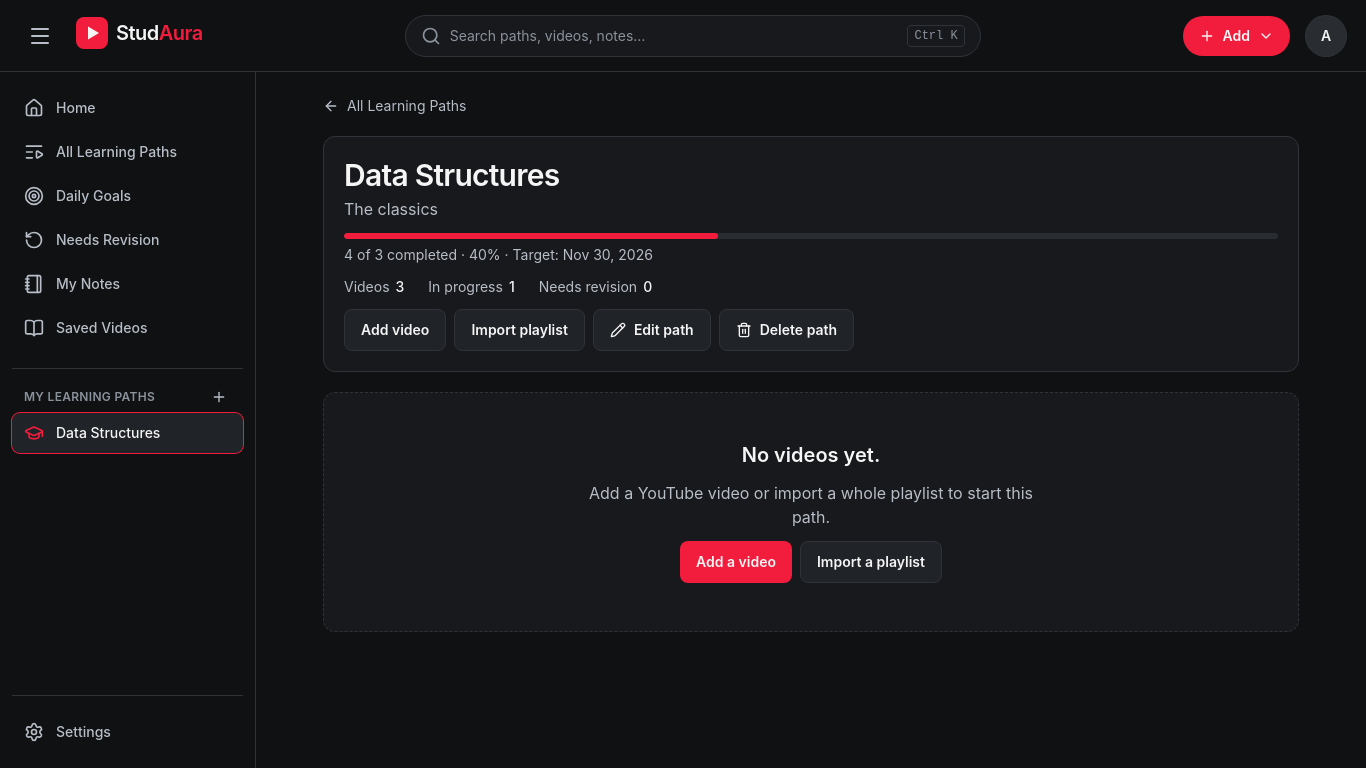
Scenario: a path page › edits the title, description and target date
Click the button "Edit path" at (652, 330), box [593,309,711,351]
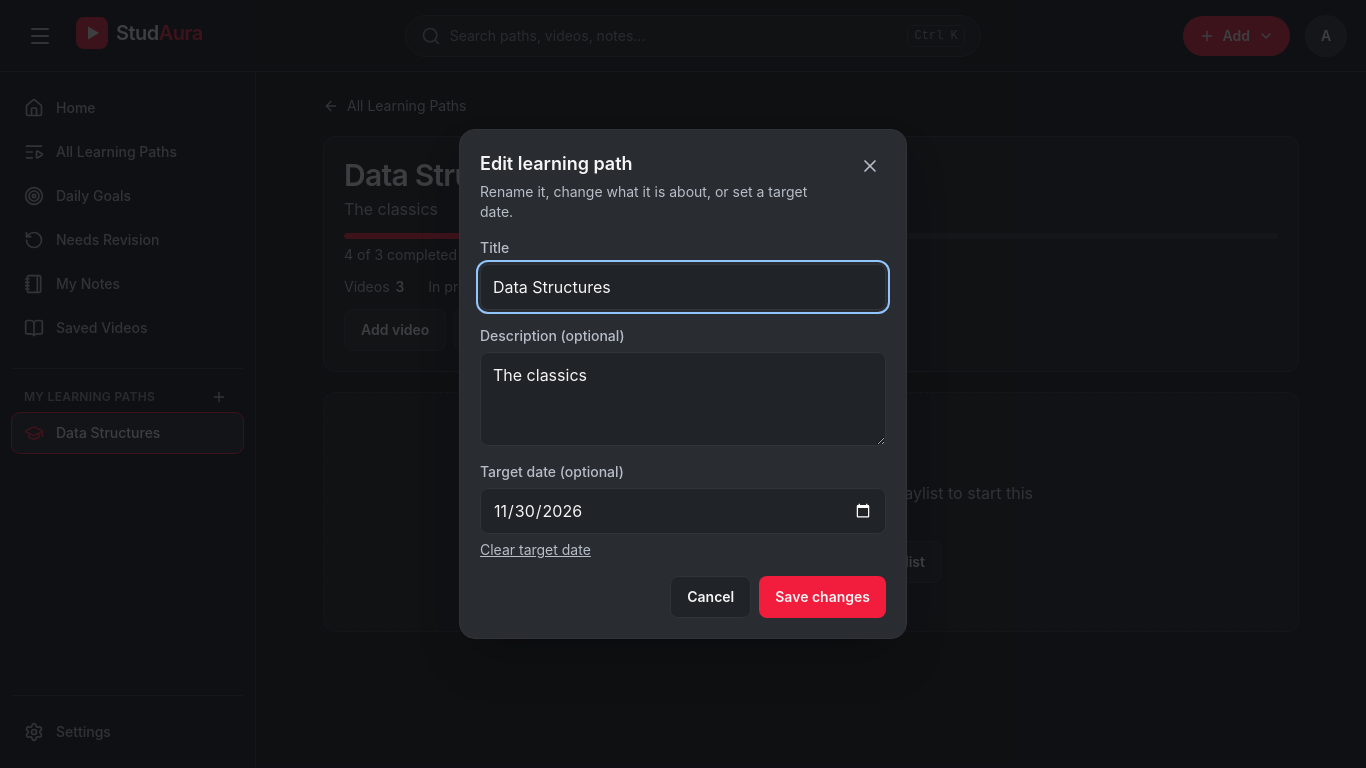
Expected: the field labelled "Title" holds "Data Structures"
Expected: the text box labelled "Description (optional)" holds "The classics", [480,352,886,446]
Expected: the date field labelled "Target date (optional)" holds "2026-11-30", [480,488,886,534]
Replace the text in the field labelled "Title" with "Algorithms" at (683, 287), box [480,264,886,310]
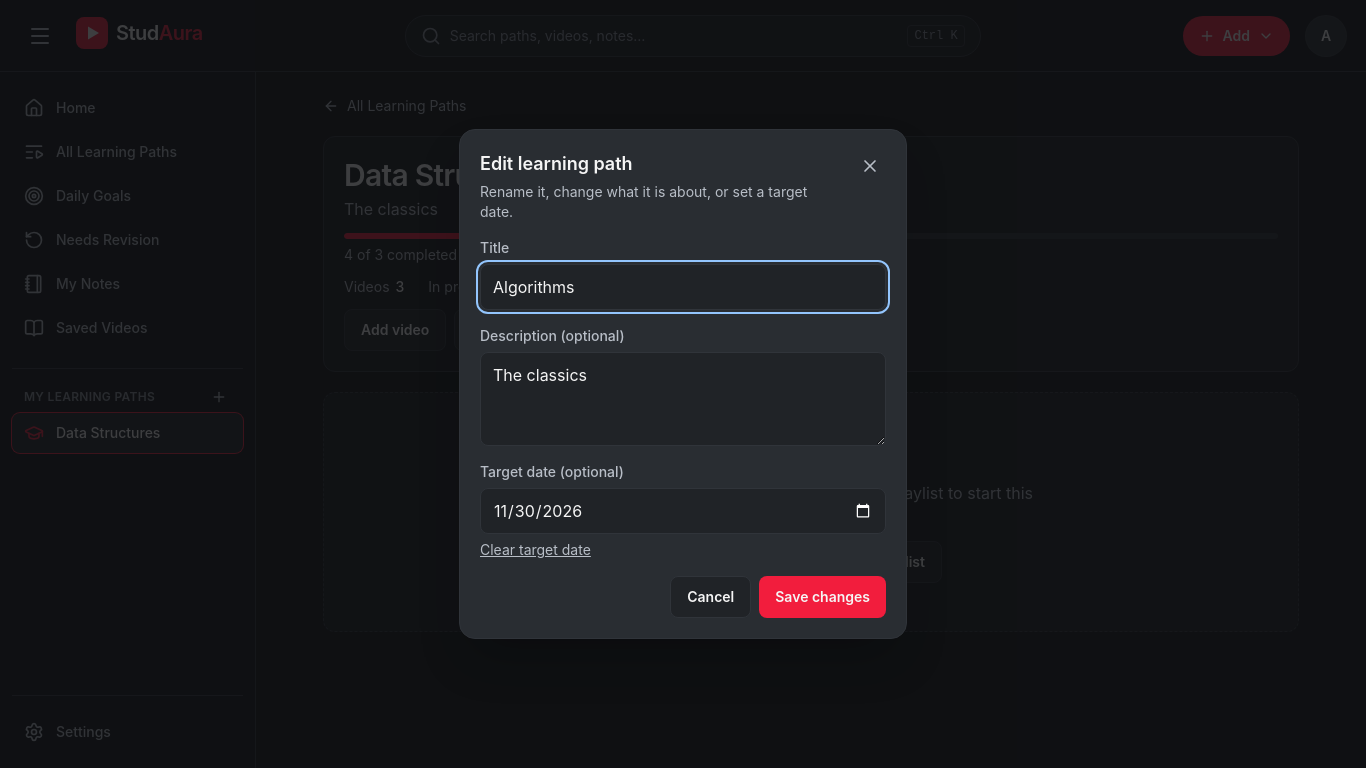
Clear the date field labelled "Target date (optional)" at (683, 511), box [480,488,886,534]
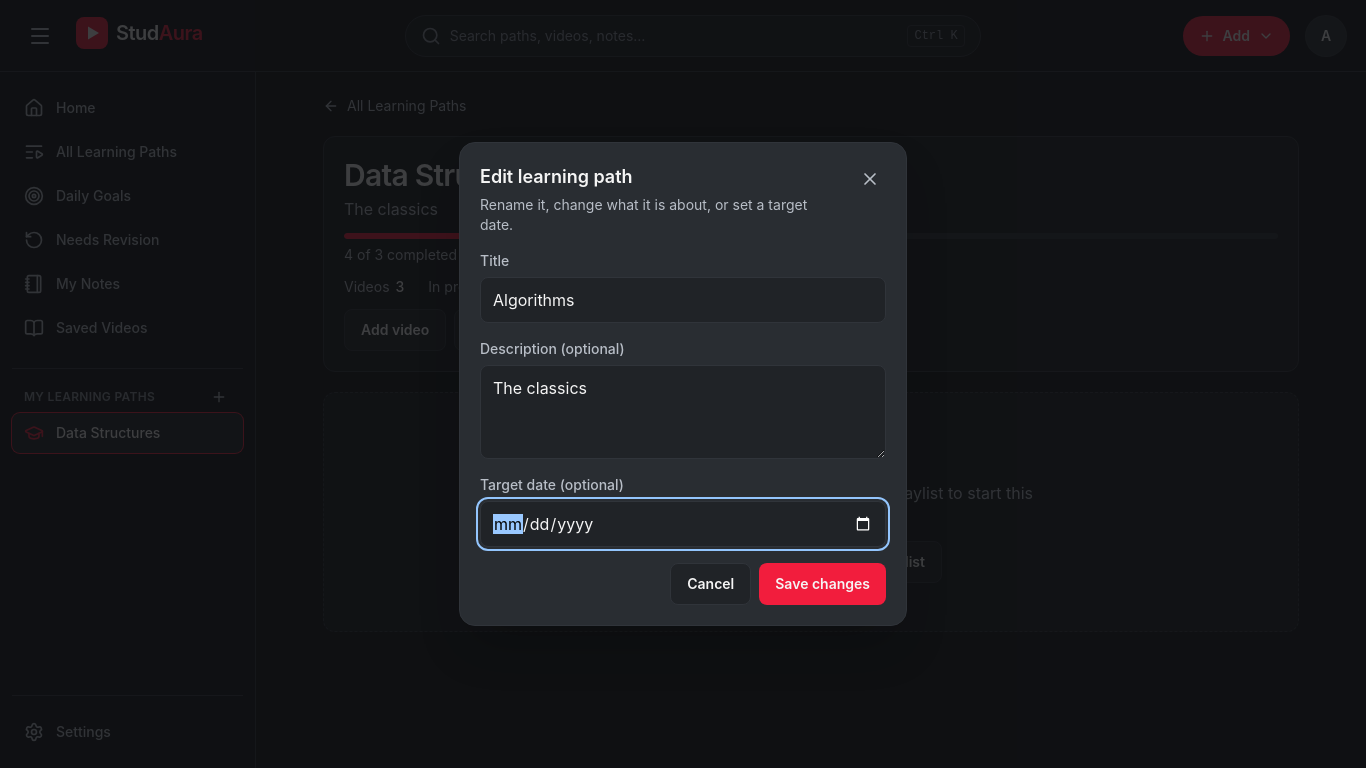
Type "2026-12-15" into the date field labelled "Target date (optional)" at (683, 524), box [480,501,886,547]
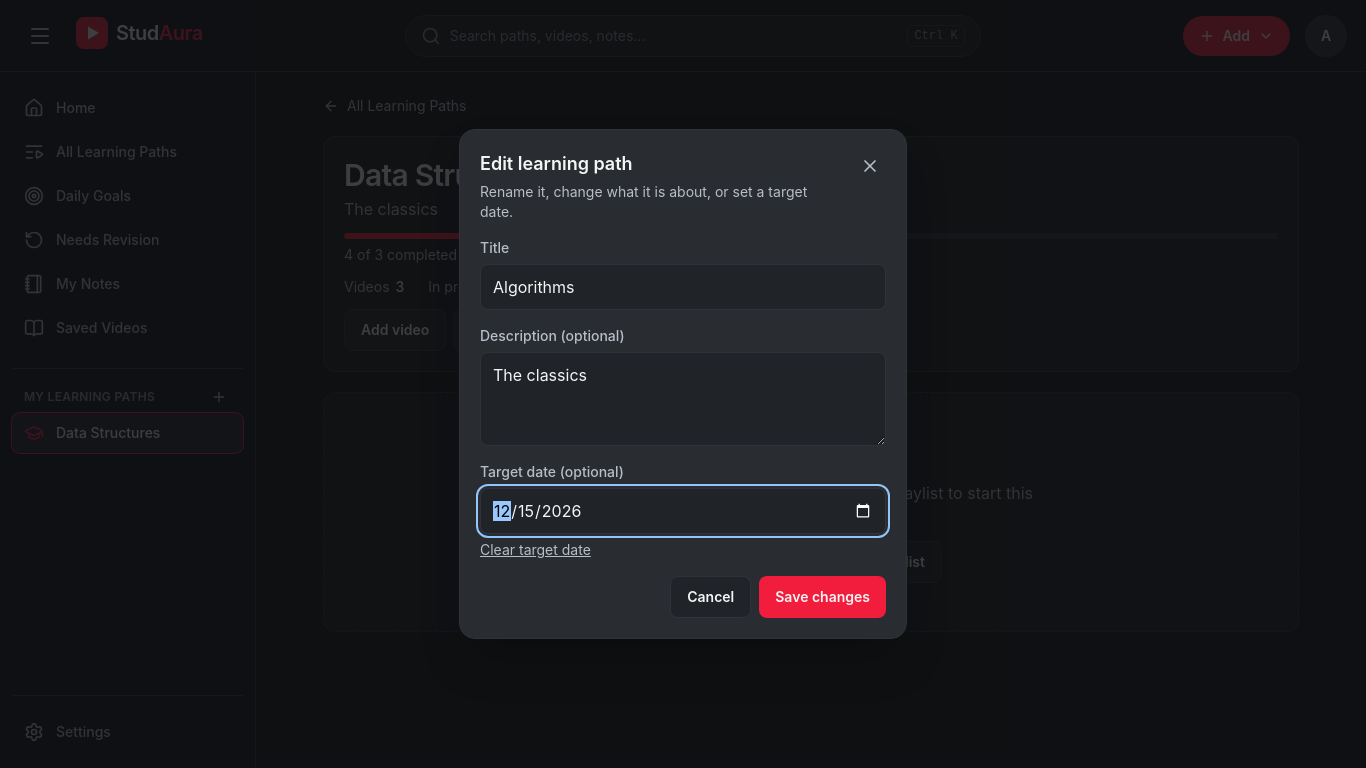
Click the button "Save changes" at (823, 597), box [759,576,886,618]
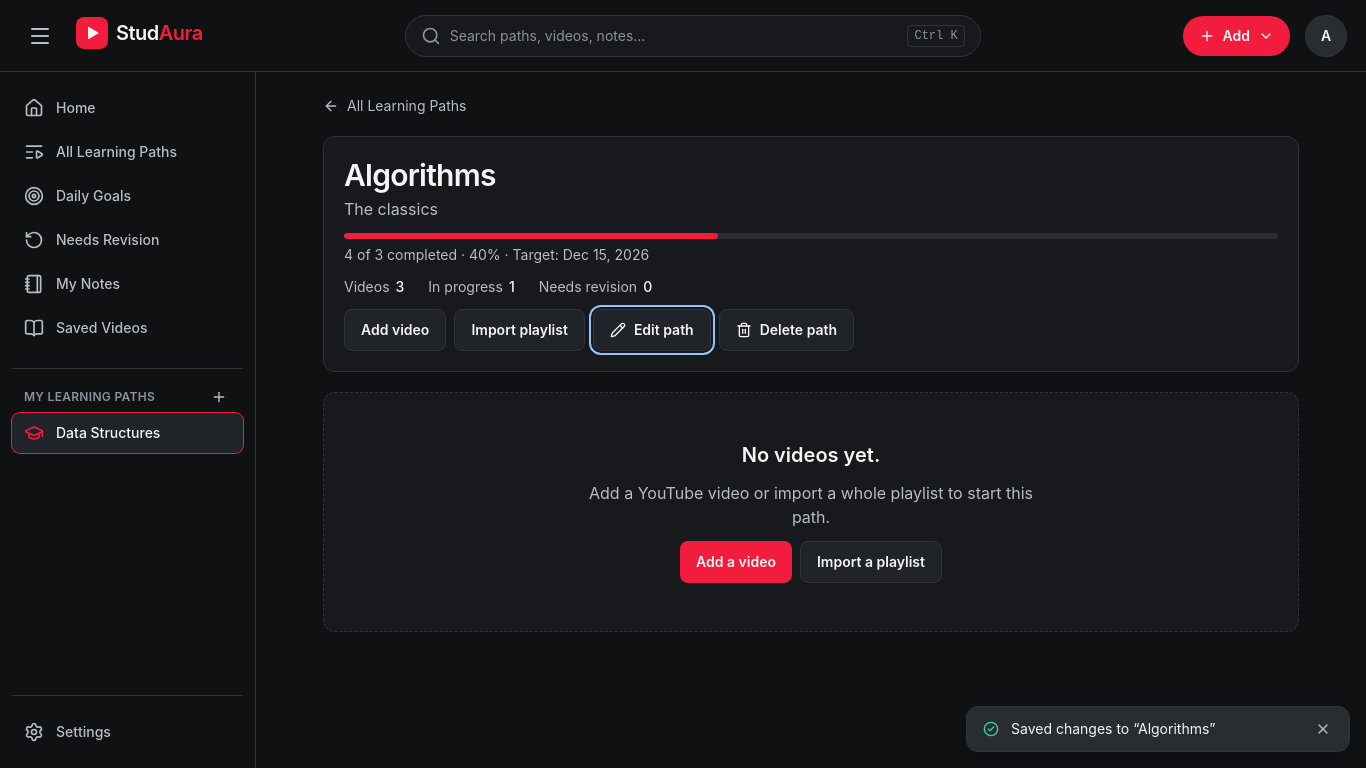
Expected: the heading "Algorithms" is shown, [344,157,496,193]
Expected: the dialog is gone
Expected: the message reads "Saved changes to “Algorithms”", [1011,720,1216,737]
